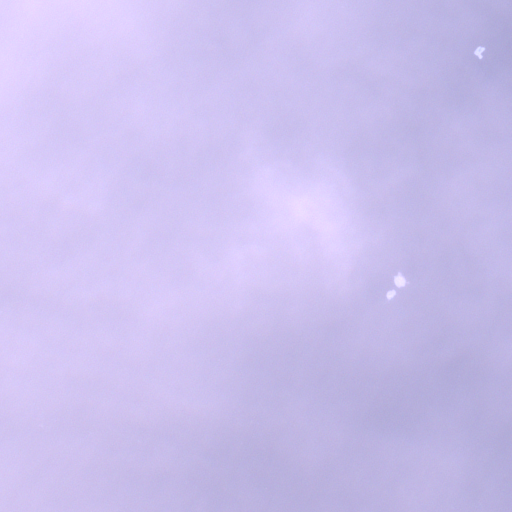Iceberg: (394, 273, 405, 286), (474, 47, 484, 58), (386, 290, 395, 298)
